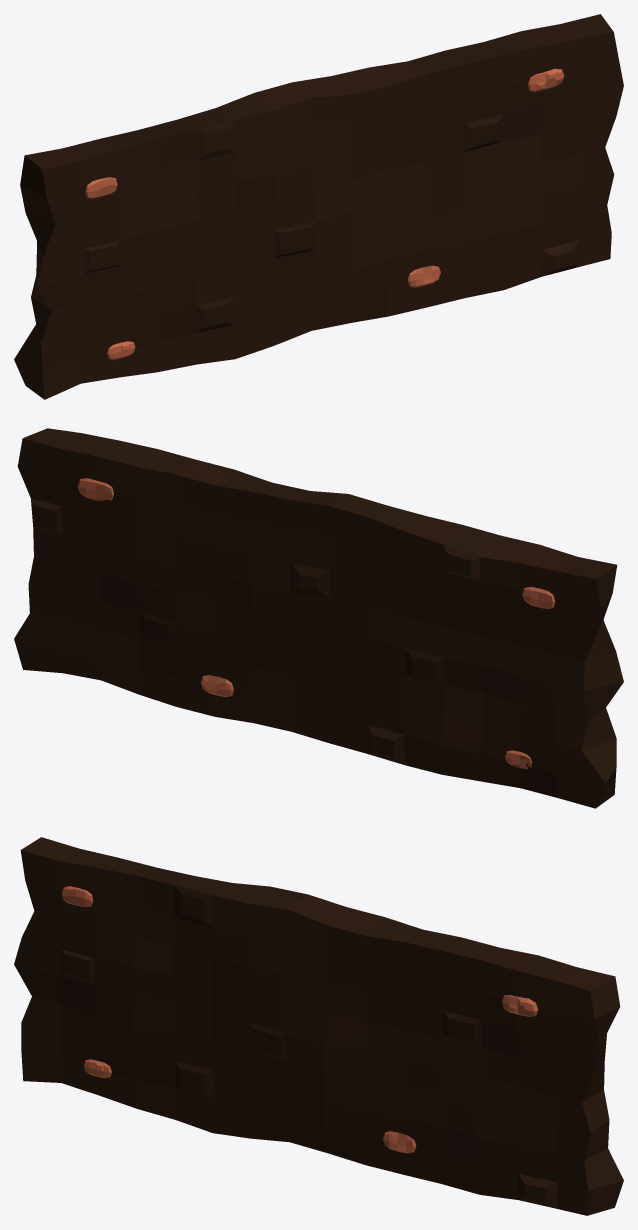
The model's file is wallrunningHell.fbx.
3 renders of one model, top to bottom at view 1: azimuth 30°, elevation 25°; view 2: azimuth 150°, elevation 25°; view 3: azimuth 330°, elevation 25°, orthographic.
Parts seen in each view (by area): view 1: Cube, Cube.001; view 2: Cube, Cube.002; view 3: Cube, Cube.001.
Part boxes in pixels (x1,y1,x2,y2): Cube: (14,14,623,399); Cube.001: (85,68,564,360); Cube: (14,428,623,808); Cube.002: (77,478,555,769); Cube: (14,837,623,1215); Cube.001: (62,886,538,1153).
Bounding box in the file's own units: 1595 × 626 × 133.
